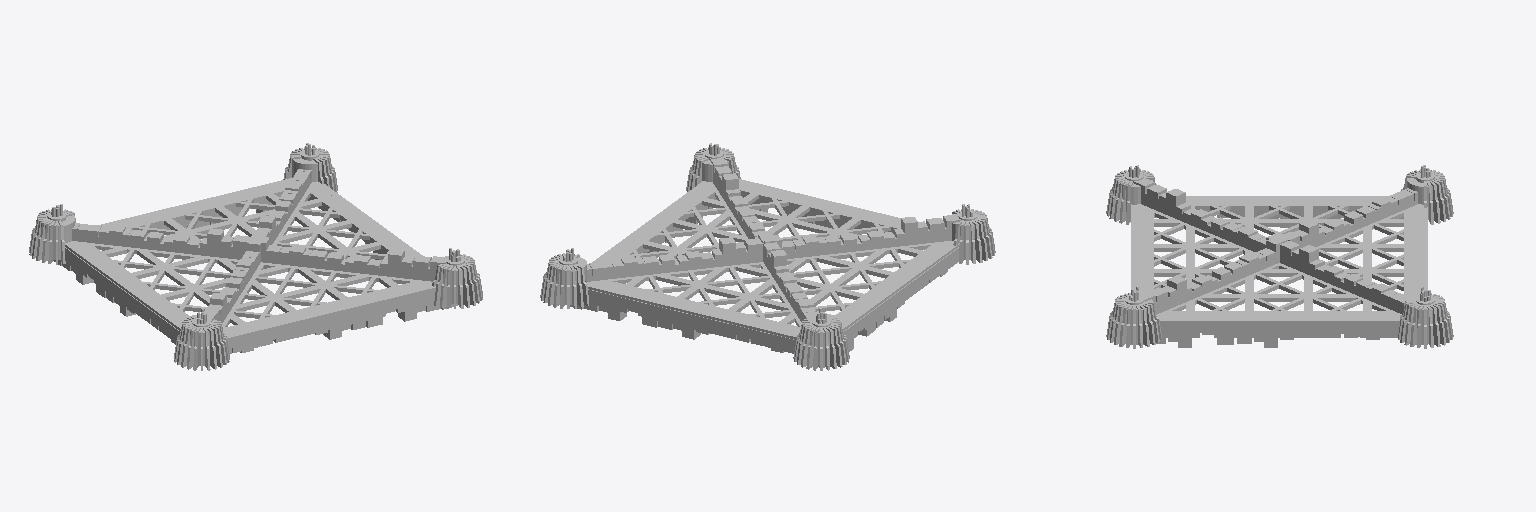
File: orbital shipyard model 2.obj
3 views of the same model, side by side, from view 1: azimuth 30°, elevation 25°; view 2: azimuth 150°, elevation 25°; view 3: azimuth 270°, elevation 25° (orthographic).
Size of the model in its own units: 865 by 161 by 860.